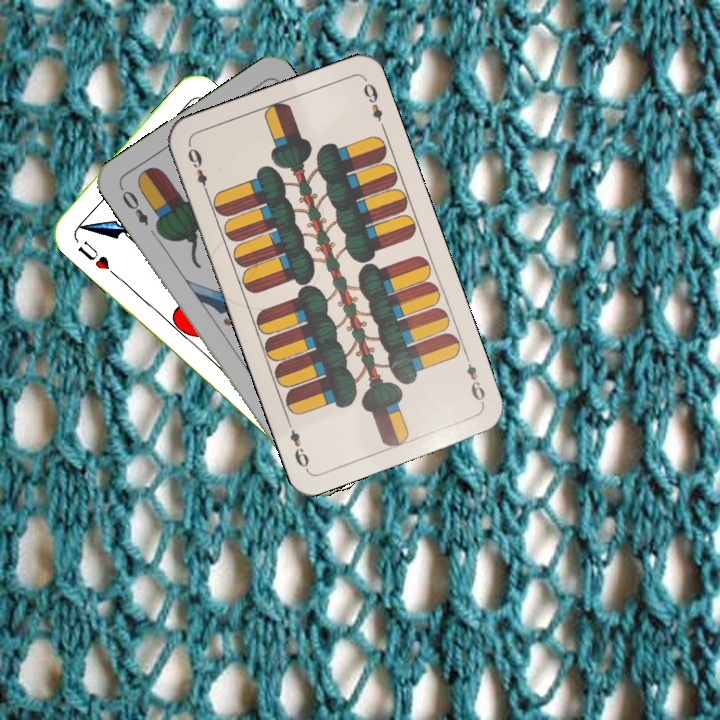E9: (183, 141, 212, 198), (460, 349, 488, 407)
EO: (115, 183, 151, 228)
HU: (73, 237, 117, 277)
